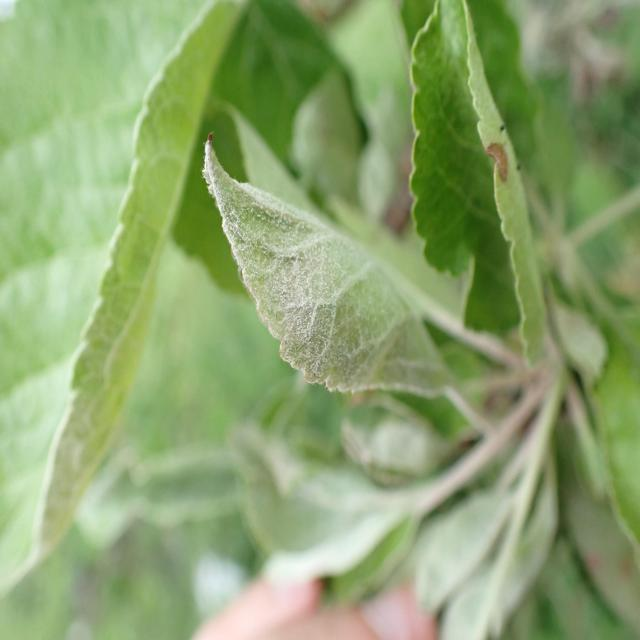Black Rot: (480, 115, 520, 204)
Powdery_mildew: (200, 137, 475, 439)
